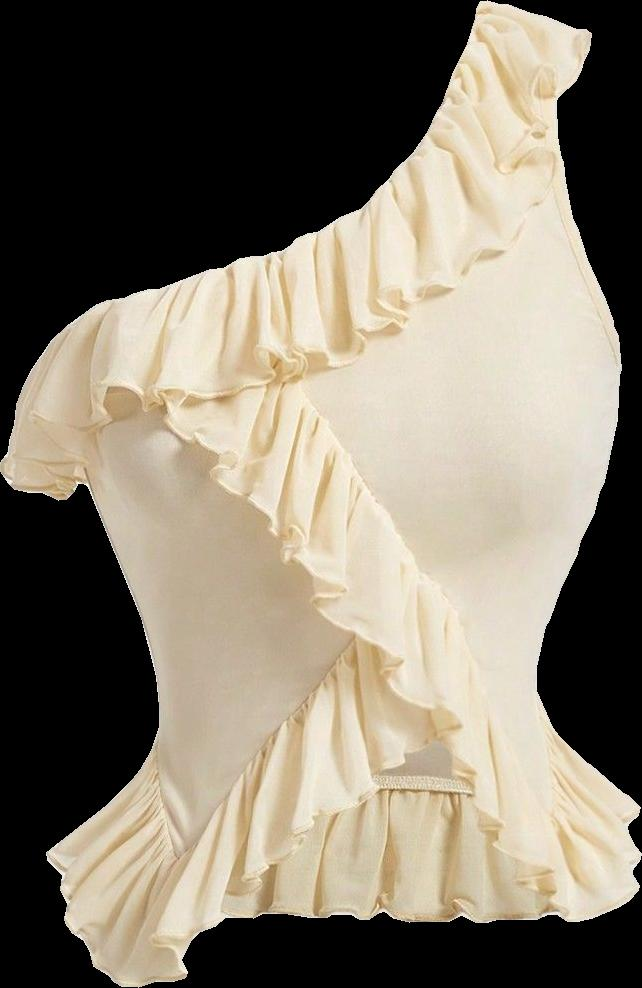Bodice: (0, 2, 641, 985)
Neckline: (100, 0, 490, 311), (294, 373, 562, 808), (143, 625, 363, 861)
Waistline: (158, 413, 641, 924), (80, 36, 589, 485), (42, 722, 450, 986)
